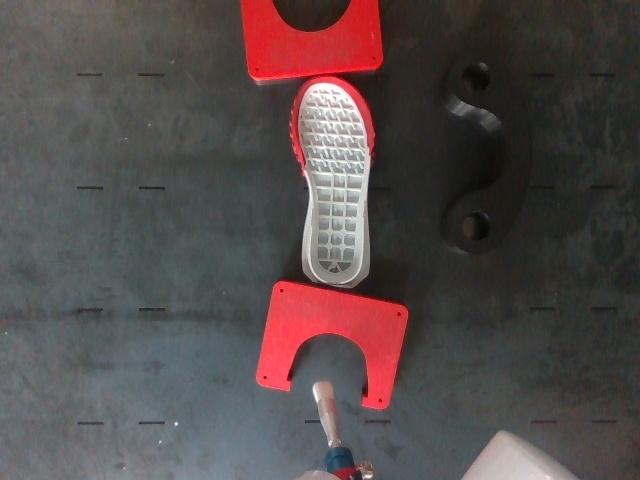shoes: (293, 76, 373, 283)
